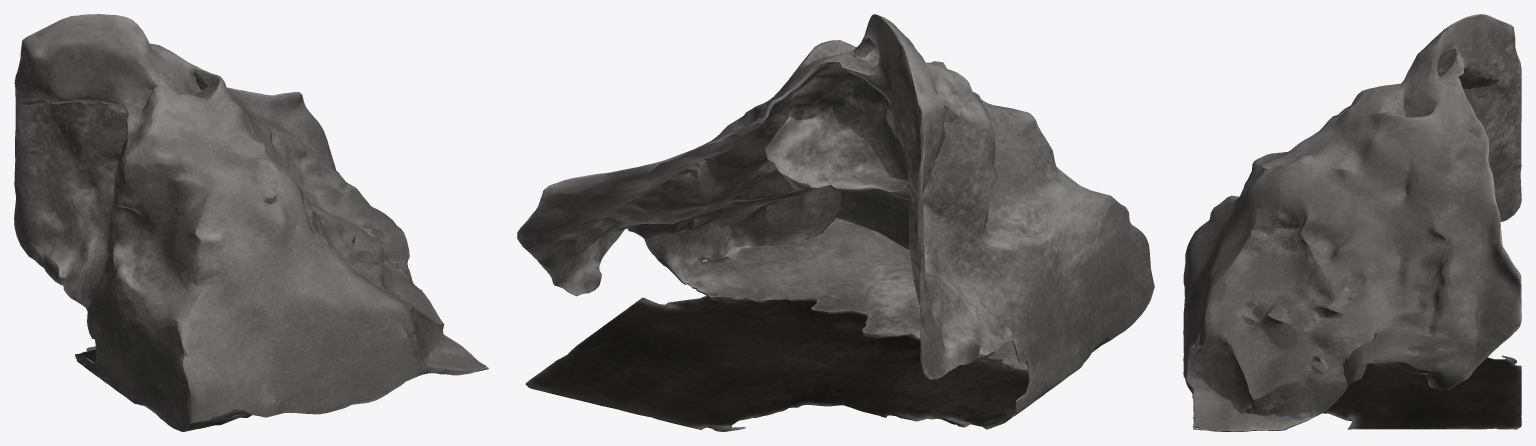
3 views of the same model, side by side, from view 1: azimuth 30°, elevation 25°; view 2: azimuth 150°, elevation 25°; view 3: azimuth 270°, elevation 25° (orthographic). The views are drawn at different scales.
Visible parts, largest first — view 1: world; view 2: world; view 3: world.
Boxes of the visible parts, box(x1,y1,x2,y2) form: world: box(14, 14, 488, 431); world: box(517, 14, 1154, 431); world: box(1183, 14, 1521, 431).
Bounding box in the file's own units: 0.35 × 0.3411 × 0.3502.
1 material, 1 textured.
